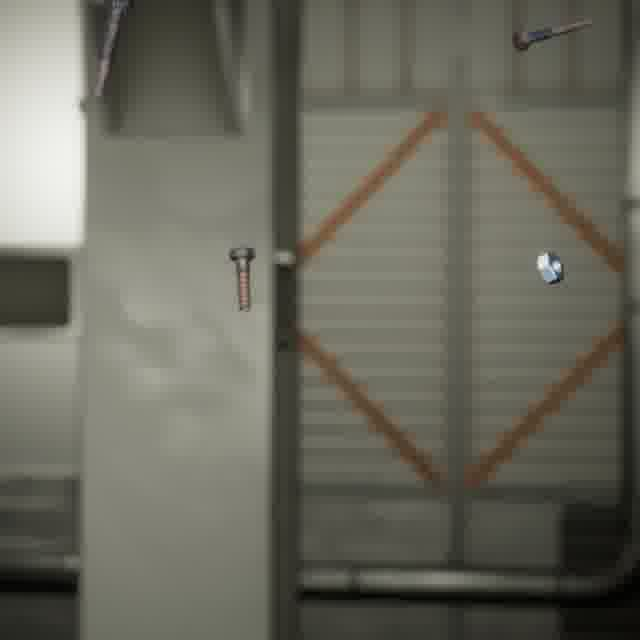bolt: (86, 0, 138, 103), (508, 14, 601, 56), (225, 243, 259, 317)
nut: (533, 248, 568, 288)
